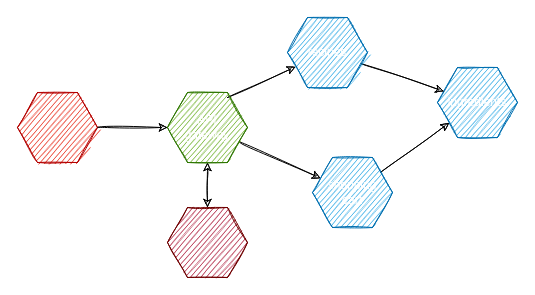
Some shapes in this 535 by 295 pixel diagram are drawn without their labels. The centre of each missing label's shape, as x and y in pixels:
accounts / groups: [207,242]
frontend: [57,127]
